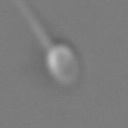normal: (8, 1, 52, 47)
